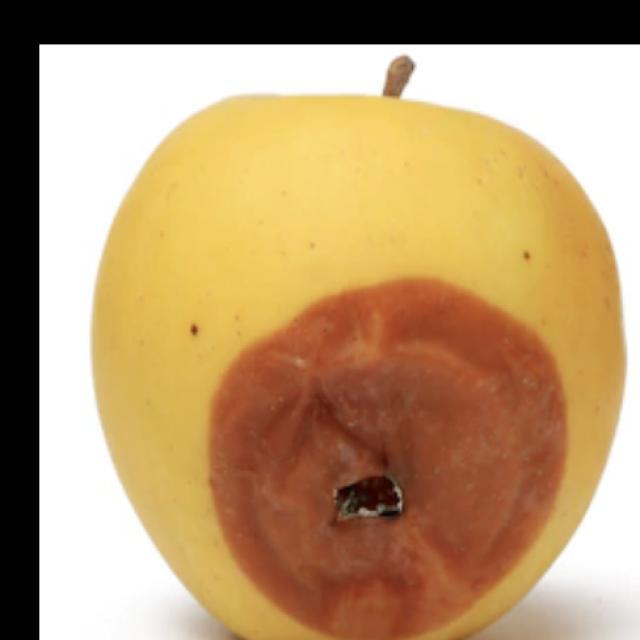Rotten: (125, 85, 615, 640)
